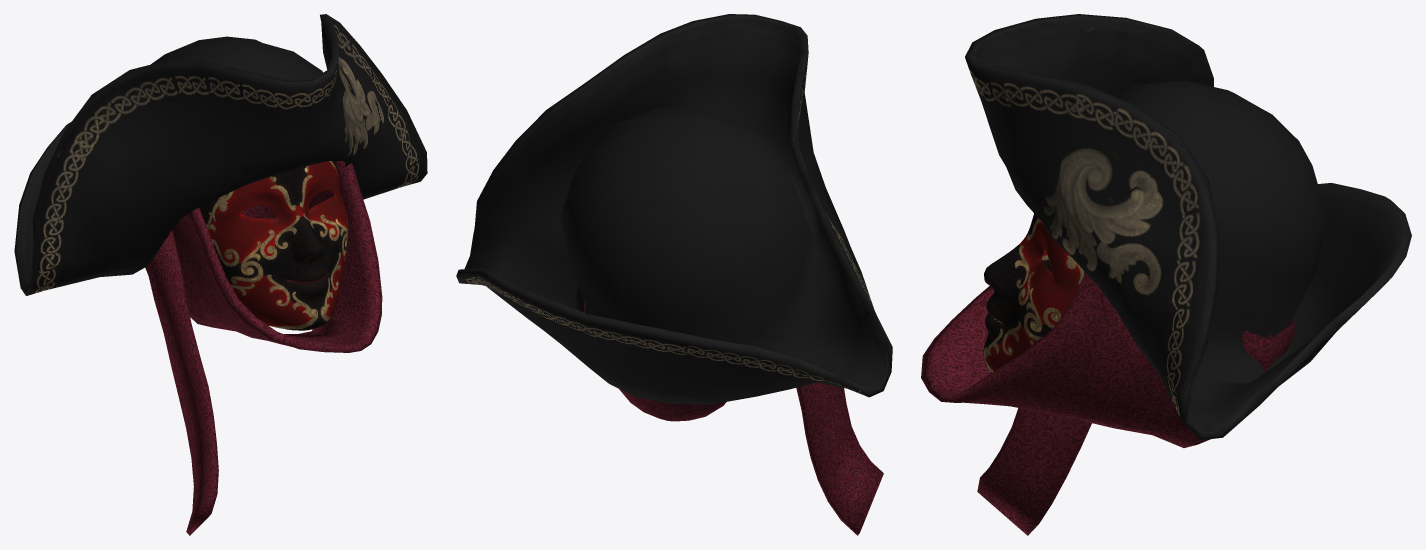
The model's file is foolMask.glb.
The picture shows the model from 3 angles, left to right: view 1: azimuth 30°, elevation 25°; view 2: azimuth 150°, elevation 25°; view 3: azimuth 270°, elevation 25°; orthographic projection. The views are drawn at different scales.
Visible parts, largest first — view 1: Hat Copy, Sphere.002 Copy, deformedMask; view 2: Hat Copy, Sphere.002 Copy; view 3: Hat Copy, Sphere.002 Copy, deformedMask.
Part boxes in pixels (x1=…): Hat Copy: x1=14, y1=14, x2=427, y2=295; Sphere.002 Copy: x1=145, y1=161, x2=382, y2=535; deformedMask: x1=199, y1=161, x2=348, y2=330; Hat Copy: x1=456, y1=14, x2=892, y2=404; Sphere.002 Copy: x1=584, y1=299, x2=883, y2=535; Hat Copy: x1=965, y1=14, x2=1411, y2=440; Sphere.002 Copy: x1=921, y1=273, x2=1294, y2=535; deformedMask: x1=983, y1=213, x2=1085, y2=372.
Size of the model in its own units: 490 by 538 by 437.
Materials: 3 (3 with a texture image).
